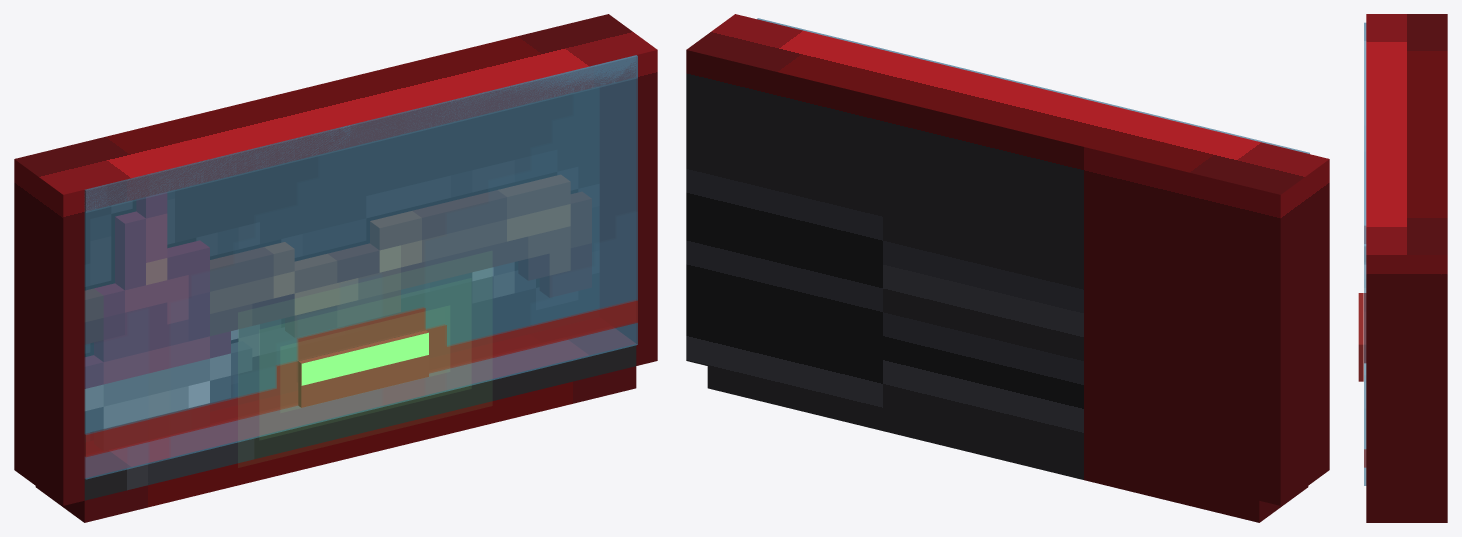
The model's file is fire_axe_cabinet_unlocked.glb.
The picture shows the model from 3 angles, left to right: view 1: azimuth 30°, elevation 25°; view 2: azimuth 150°, elevation 25°; view 3: azimuth 270°, elevation 25°; orthographic projection. The views are drawn at different scales.
Parts seen in each view (by area): view 1: Continuous_Cabinet_Shell, Closed_Thickness_Door_Glass, Removable_axe, Lock_Overlay, Door_Handle; view 2: Continuous_Cabinet_Shell, Closed_Thickness_Door_Glass; view 3: Continuous_Cabinet_Shell, Closed_Thickness_Door_Glass, Door_Handle.
Boxes of the visible parts, x1,y1,x2,y2 form: Continuous_Cabinet_Shell: (14, 14, 657, 522); Closed_Thickness_Door_Glass: (84, 55, 637, 479); Removable_axe: (84, 175, 591, 432); Lock_Overlay: (260, 279, 470, 439); Door_Handle: (298, 330, 428, 407); Continuous_Cabinet_Shell: (686, 14, 1329, 522); Closed_Thickness_Door_Glass: (757, 18, 1309, 153); Continuous_Cabinet_Shell: (1366, 14, 1447, 522); Closed_Thickness_Door_Glass: (1364, 22, 1366, 485); Door_Handle: (1358, 293, 1363, 381).
Bounding box in the file's own units: 0.7875 × 0.4219 × 0.1238.
5 materials, 5 textured.
